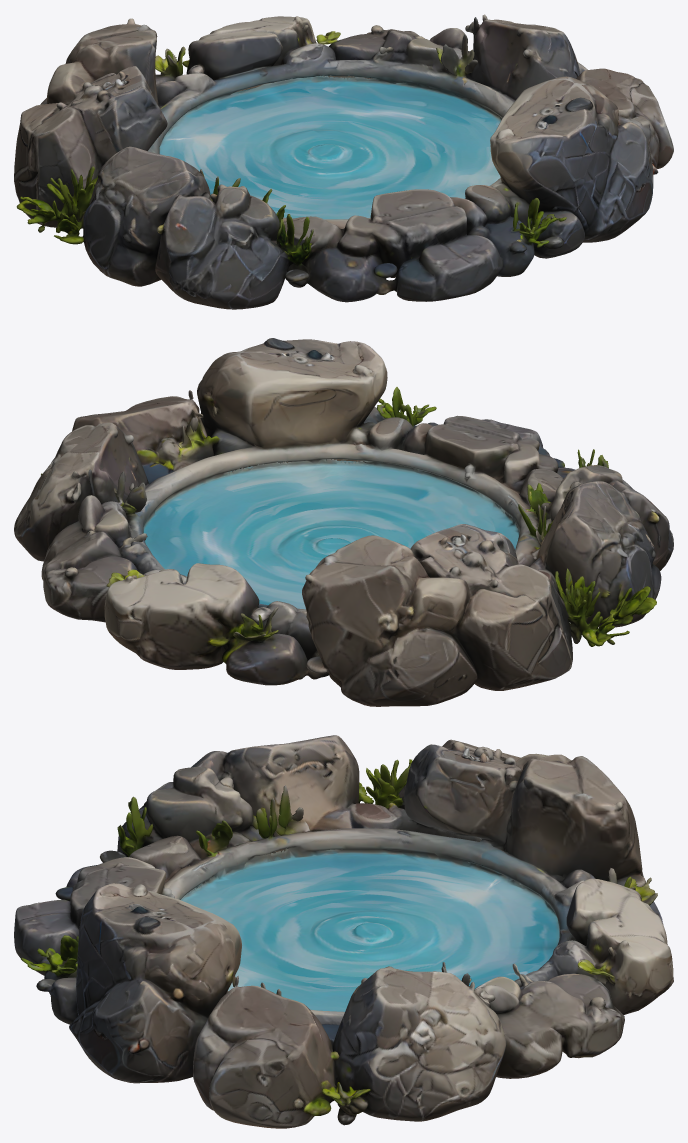
File: nature-hot-spring-rock.glb
The picture shows the model from 3 angles, top to bottom: view 1: azimuth 30°, elevation 25°; view 2: azimuth 150°, elevation 25°; view 3: azimuth 270°, elevation 25°; orthographic projection. The views are drawn at different scales.
Visible parts, largest first — view 1: tripo_node_2ca7958e-df1e-45ce-abf7-bc30220065f8; view 2: tripo_node_2ca7958e-df1e-45ce-abf7-bc30220065f8; view 3: tripo_node_2ca7958e-df1e-45ce-abf7-bc30220065f8.
Part boxes in pixels (x1,y1,x2,y2): tripo_node_2ca7958e-df1e-45ce-abf7-bc30220065f8: (14, 14, 673, 309); tripo_node_2ca7958e-df1e-45ce-abf7-bc30220065f8: (14, 338, 673, 706); tripo_node_2ca7958e-df1e-45ce-abf7-bc30220065f8: (14, 735, 673, 1128).
Bounding box in the file's own units: 4.71 × 0.9996 × 4.09.
Materials: 1 (1 with a texture image).
